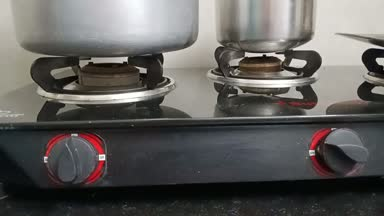noflame_gason: (18, 46, 177, 190), (214, 43, 372, 179)
